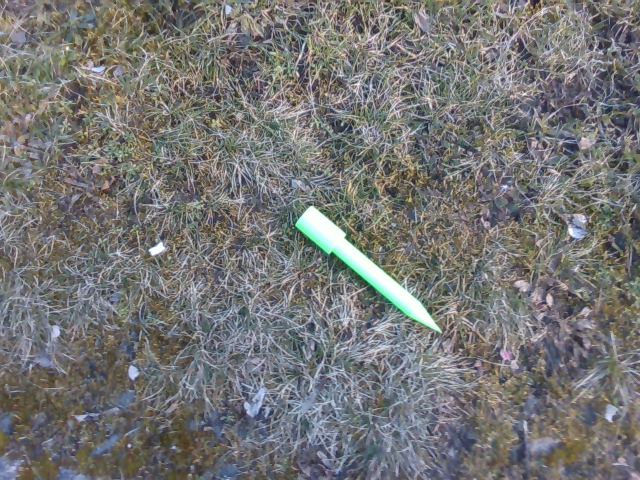Probe: (289, 203, 445, 339)
